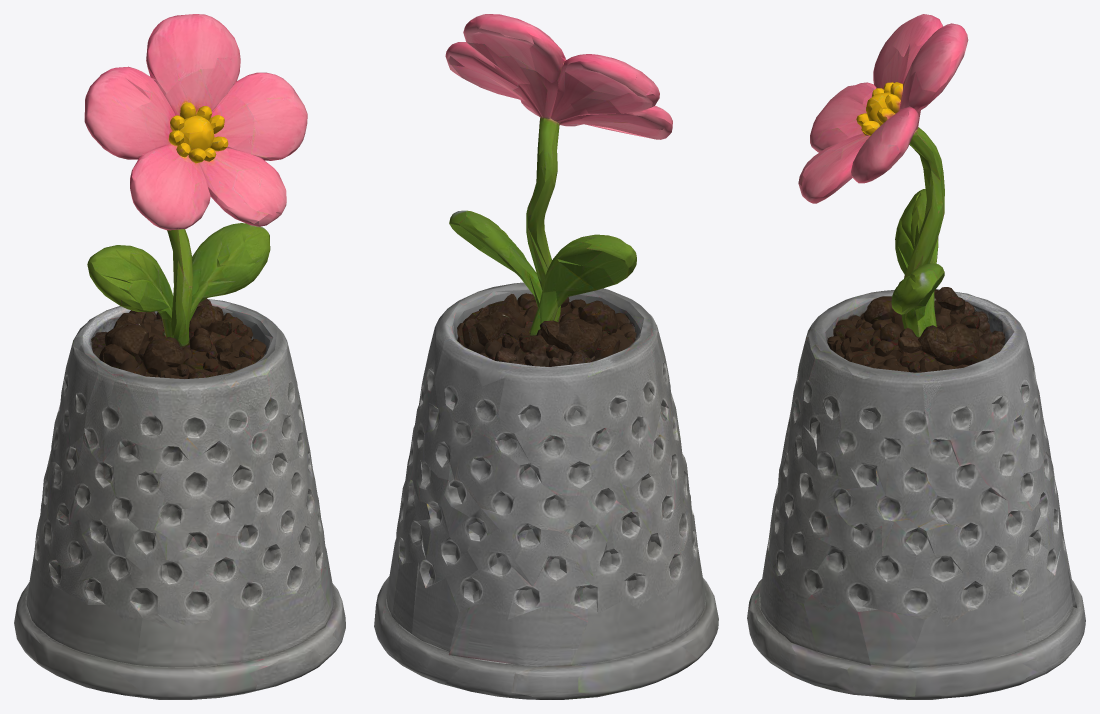
Rendered from props_kukka.glb.
The picture shows the model from 3 angles, left to right: view 1: azimuth 30°, elevation 25°; view 2: azimuth 150°, elevation 25°; view 3: azimuth 270°, elevation 25°; orthographic projection. The views are drawn at different scales.
Parts seen in each view (by area): view 1: output_unwrapped; view 2: output_unwrapped; view 3: output_unwrapped.
Boxes of the visible parts, left/top/right/bottom form: output_unwrapped: left=14, top=14, right=345, bottom=699; output_unwrapped: left=374, top=14, right=718, bottom=699; output_unwrapped: left=747, top=14, right=1085, bottom=699.
Size of the model in its own units: 0.1005 by 0.2 by 0.1005.
Materials: 1 (1 with a texture image).
